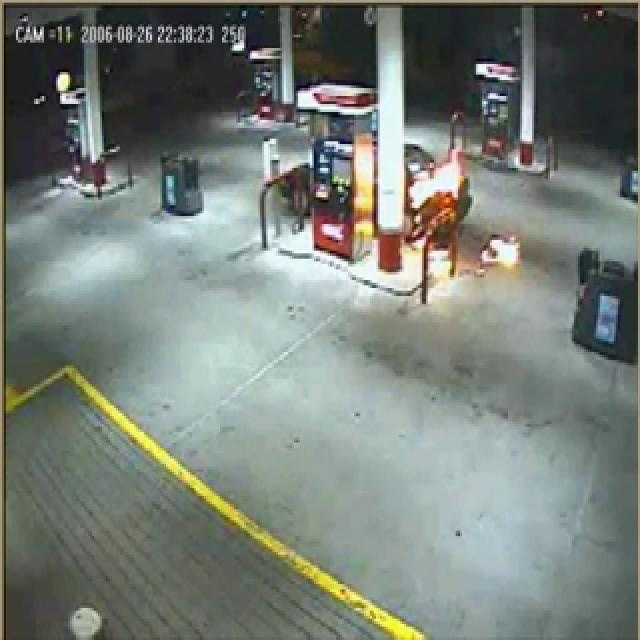explosion: (296, 0, 613, 408)
